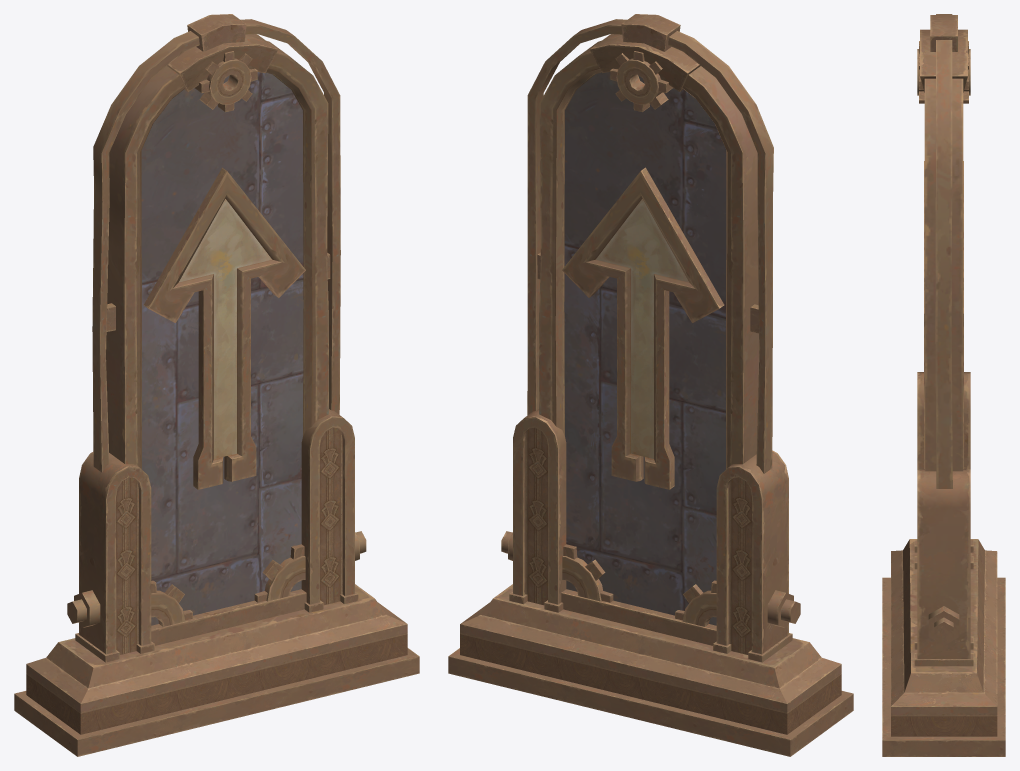
Rendered from Homeworld_Exterior_Fd_Decoration_Prop_Zhishipai_01_Lod0.fbx.
The picture shows the model from 3 angles, left to right: view 1: azimuth 30°, elevation 25°; view 2: azimuth 150°, elevation 25°; view 3: azimuth 270°, elevation 25°; orthographic projection. The views are drawn at different scales.
Parts seen in each view (by area): view 1: Area_Fd_Prop_SXGC_Zhishipai_01_Lod0; view 2: Area_Fd_Prop_SXGC_Zhishipai_01_Lod0; view 3: Area_Fd_Prop_SXGC_Zhishipai_01_Lod0.
Part boxes in pixels (x1=…): Area_Fd_Prop_SXGC_Zhishipai_01_Lod0: x1=14, y1=14, x2=419, y2=756; Area_Fd_Prop_SXGC_Zhishipai_01_Lod0: x1=448, y1=14, x2=853, y2=756; Area_Fd_Prop_SXGC_Zhishipai_01_Lod0: x1=882, y1=14, x2=1005, y2=756.
Size of the model in its own units: 2.36 by 4.43 by 0.7566.
